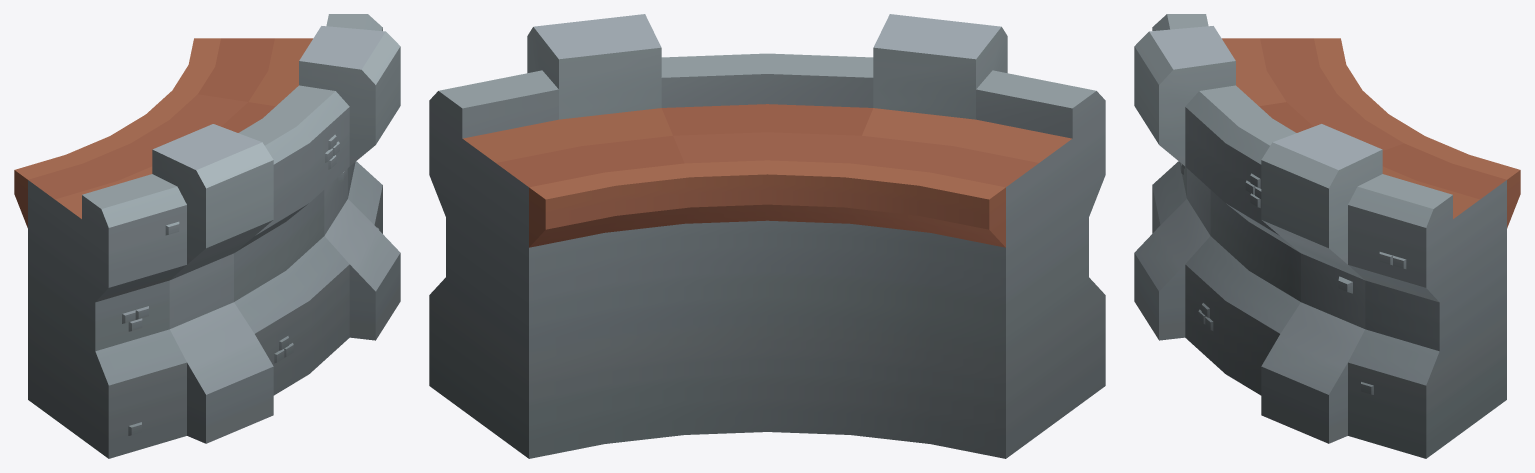
Rendered from wall_corner_a_outside.glb.
3 renders of one model, left to right at view 1: azimuth 30°, elevation 25°; view 2: azimuth 150°, elevation 25°; view 3: azimuth 270°, elevation 25°, orthographic. The views are drawn at different scales.
Parts seen in each view (by area): view 1: wall_corner_A_outside; view 2: wall_corner_A_outside; view 3: wall_corner_A_outside.
Part boxes in pixels (bbox=[...]): wall_corner_A_outside: bbox=[14, 14, 400, 458]; wall_corner_A_outside: bbox=[429, 14, 1105, 458]; wall_corner_A_outside: bbox=[1134, 14, 1520, 458].
Bounding box in the file's own units: 1.76 × 1.1 × 1.43.
Materials: 1 (1 with a texture image).
